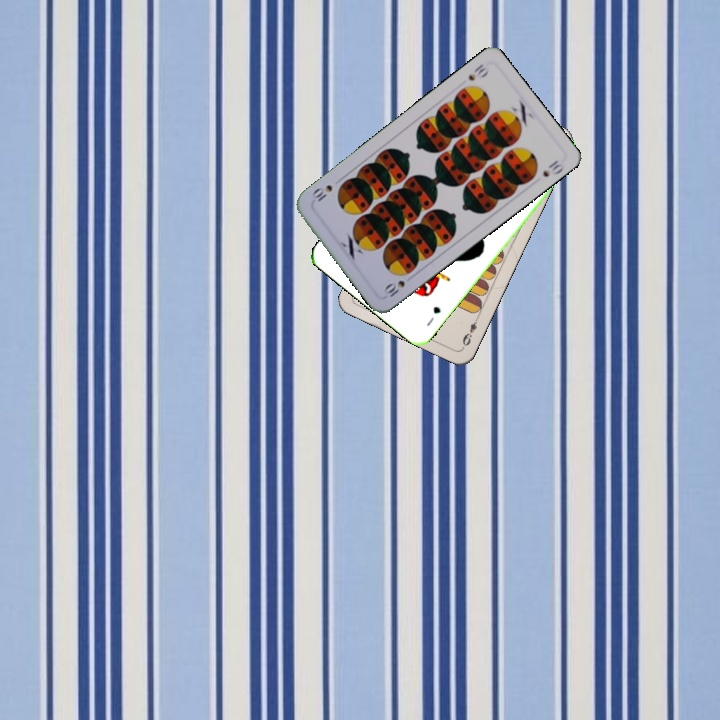E9: (458, 312, 482, 350)
GU: (422, 302, 444, 329)
S10: (380, 271, 416, 300), (464, 60, 491, 83)
